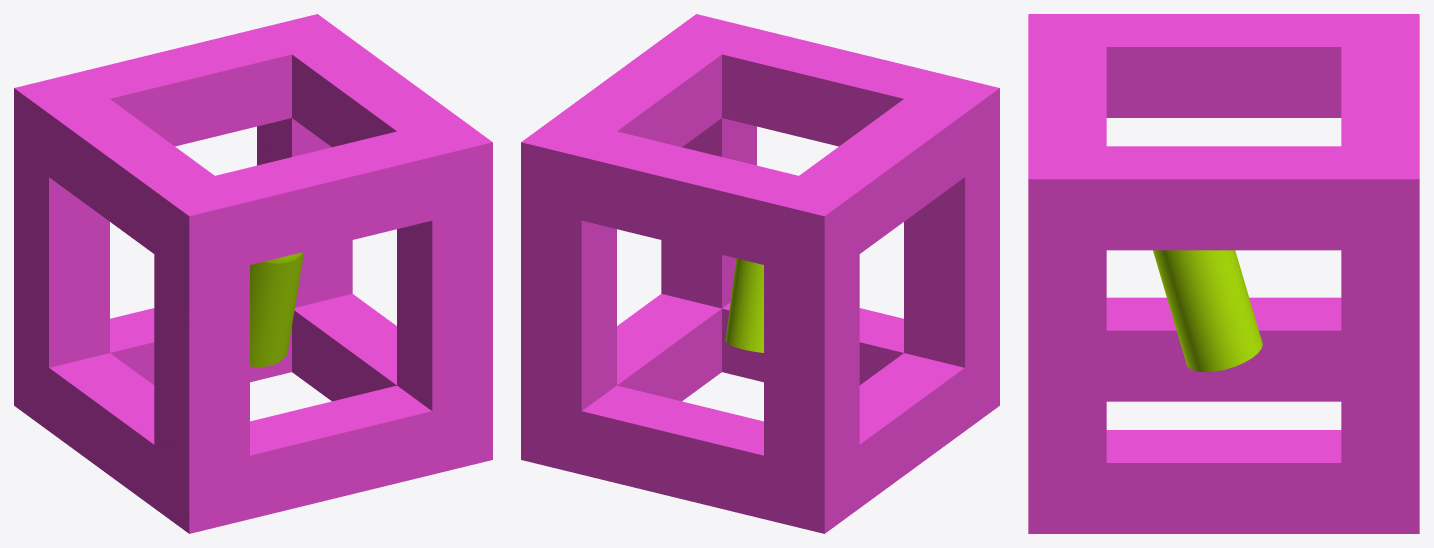
File: amplifier.obj
3 views of the same model, side by side, from view 1: azimuth 30°, elevation 25°; view 2: azimuth 150°, elevation 25°; view 3: azimuth 270°, elevation 25° (orthographic). The views are drawn at different scales.
Parts seen in each view (by area): view 1: mergedBlocks; view 2: mergedBlocks; view 3: mergedBlocks.
Boxes of the visible parts, x1=… form: mergedBlocks: x1=14, y1=14, x2=492, y2=533; mergedBlocks: x1=521, y1=14, x2=999, y2=533; mergedBlocks: x1=1028, y1=14, x2=1419, y2=533.
Bounding box in the file's own units: 1 × 1 × 1.
